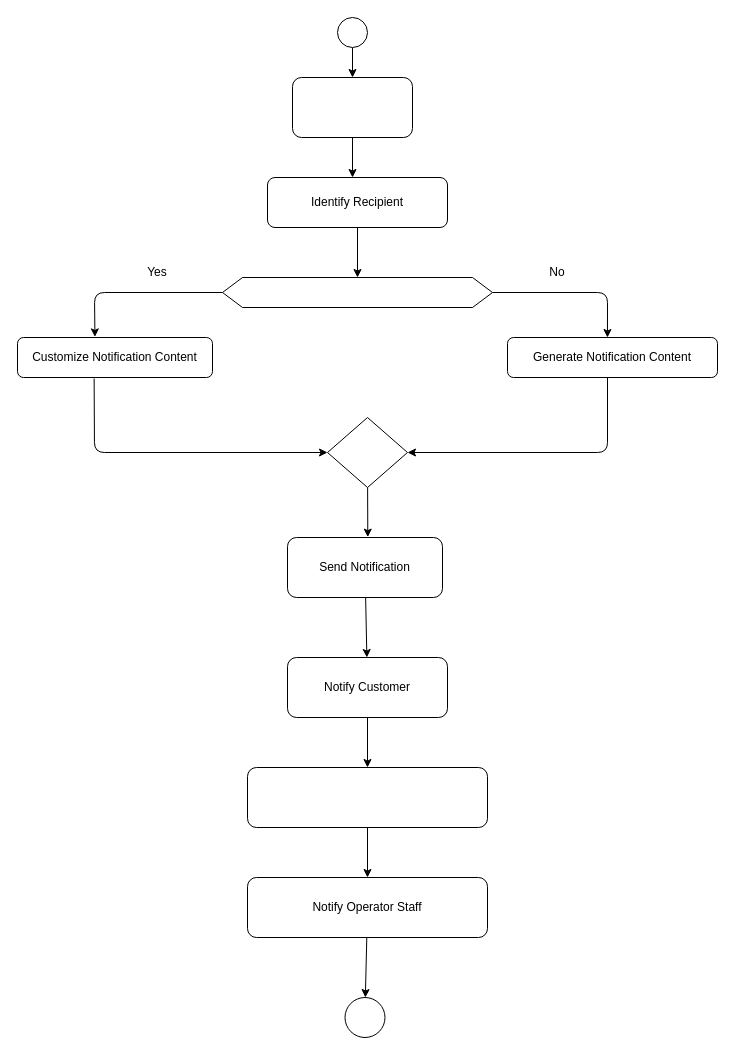
The diagram is 735 pixels wide and 1055 high, and some of its shapes have lost their labels. Each missing label, with the centre of its shape:
"Customization Allowed" belongs at pixel 357 292.
"Notify Administrator" belongs at pixel 367 797.
"Trigger Event" belongs at pixel 352 107.
